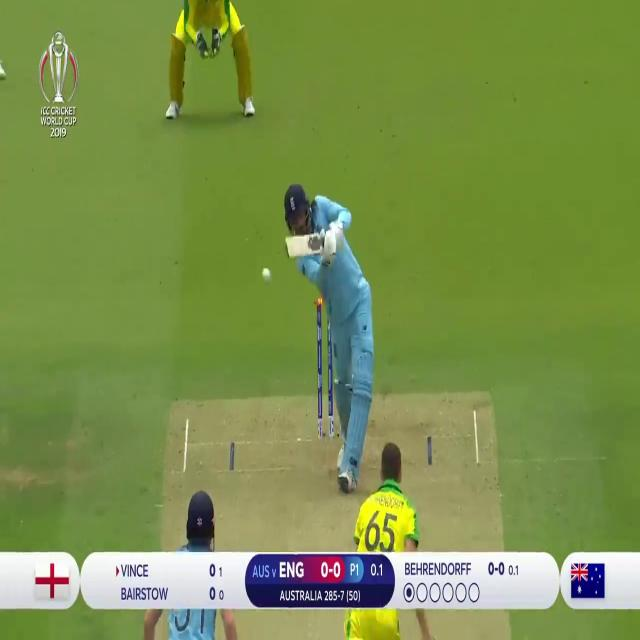ball: (257, 261, 277, 287)
